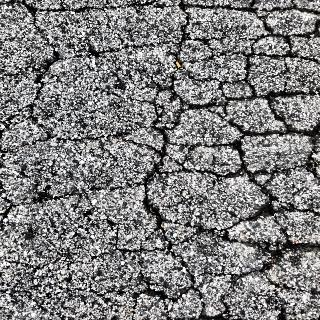alligator-crack: (108, 0, 320, 320)
crack: (0, 1, 111, 170)
